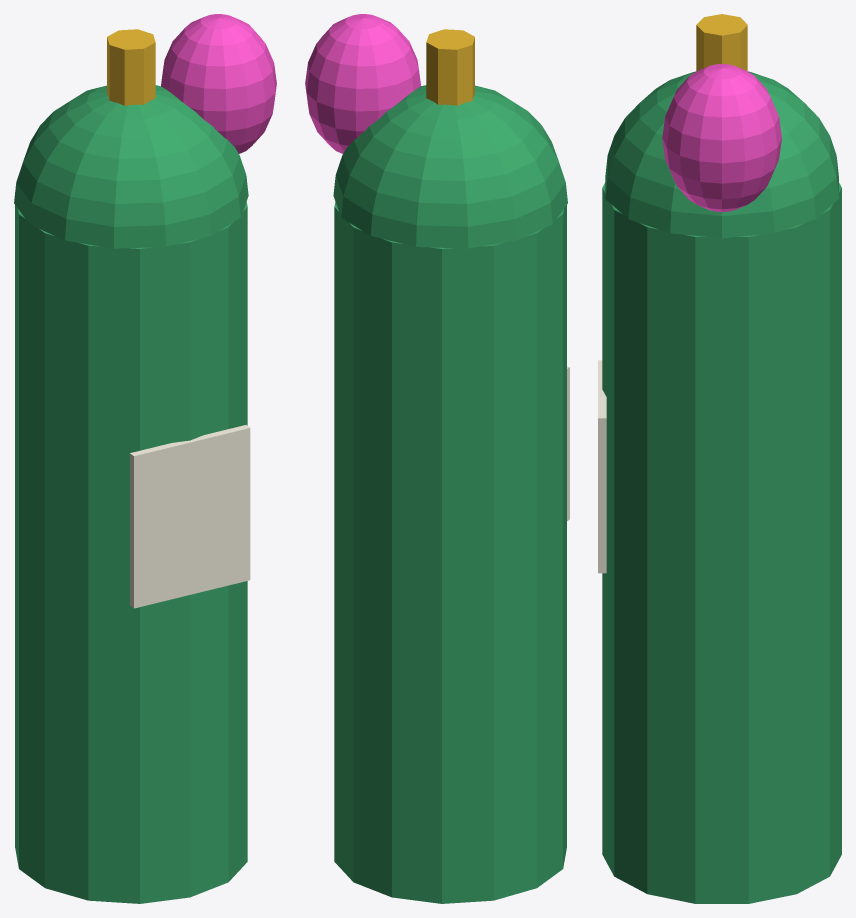
Rendered from karaoke_helium_tank.glb.
The picture shows the model from 3 angles, left to right: view 1: azimuth 30°, elevation 25°; view 2: azimuth 150°, elevation 25°; view 3: azimuth 270°, elevation 25°; orthographic projection.
Parts seen in each view (by area): view 1: tank_helium_green, shoulder_helium_green, label_helium_label, balloon_helium_balloon, valve_helium_brass; view 2: tank_helium_green, shoulder_helium_green, balloon_helium_balloon, valve_helium_brass; view 3: tank_helium_green, shoulder_helium_green, balloon_helium_balloon, valve_helium_brass, label_helium_label.
Part boxes in pixels (x1,y1,x2,y2): tank_helium_green: [15, 192, 247, 903]; shoulder_helium_green: [14, 85, 248, 248]; label_helium_label: [130, 425, 250, 608]; balloon_helium_balloon: [161, 14, 276, 153]; valve_helium_brass: [107, 29, 155, 105]; tank_helium_green: [334, 202, 566, 903]; shoulder_helium_green: [333, 85, 567, 248]; balloon_helium_balloon: [305, 14, 420, 153]; valve_helium_brass: [426, 29, 474, 105]; tank_helium_green: [602, 182, 841, 903]; shoulder_helium_green: [605, 71, 838, 238]; balloon_helium_balloon: [662, 64, 781, 212]; valve_helium_brass: [696, 14, 747, 71]; label_helium_label: [598, 360, 606, 573].
Size of the model in its own units: 0.33 by 1.07 by 0.285.
